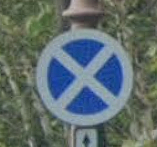oprirea_interzisa: (30, 25, 140, 135)
